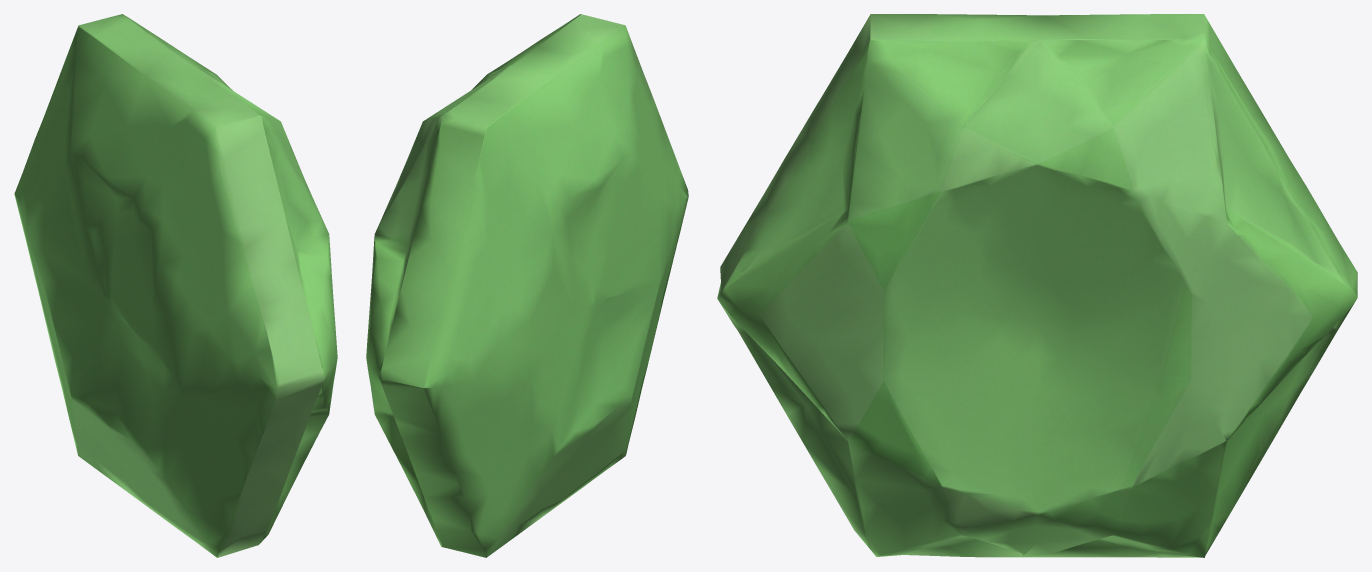
The model's file is tripo_convert_e0c8d6bc-49b2-4b9c-8440-71e79ccaffc9.fbx.
The picture shows the model from 3 angles, left to right: view 1: azimuth 30°, elevation 25°; view 2: azimuth 150°, elevation 25°; view 3: azimuth 270°, elevation 25°; orthographic projection. The views are drawn at different scales.
Parts seen in each view (by area): view 1: tripo_node_e0c8d6bc; view 2: tripo_node_e0c8d6bc; view 3: tripo_node_e0c8d6bc.
Part boxes in pixels (<box>): tripo_node_e0c8d6bc: <box>14,14,337,557</box>; tripo_node_e0c8d6bc: <box>366,14,688,557</box>; tripo_node_e0c8d6bc: <box>717,14,1357,557</box>.
Size of the model in its own units: 0.3244 by 0.8753 by 0.9799.
Materials: 1 (1 with a texture image).
